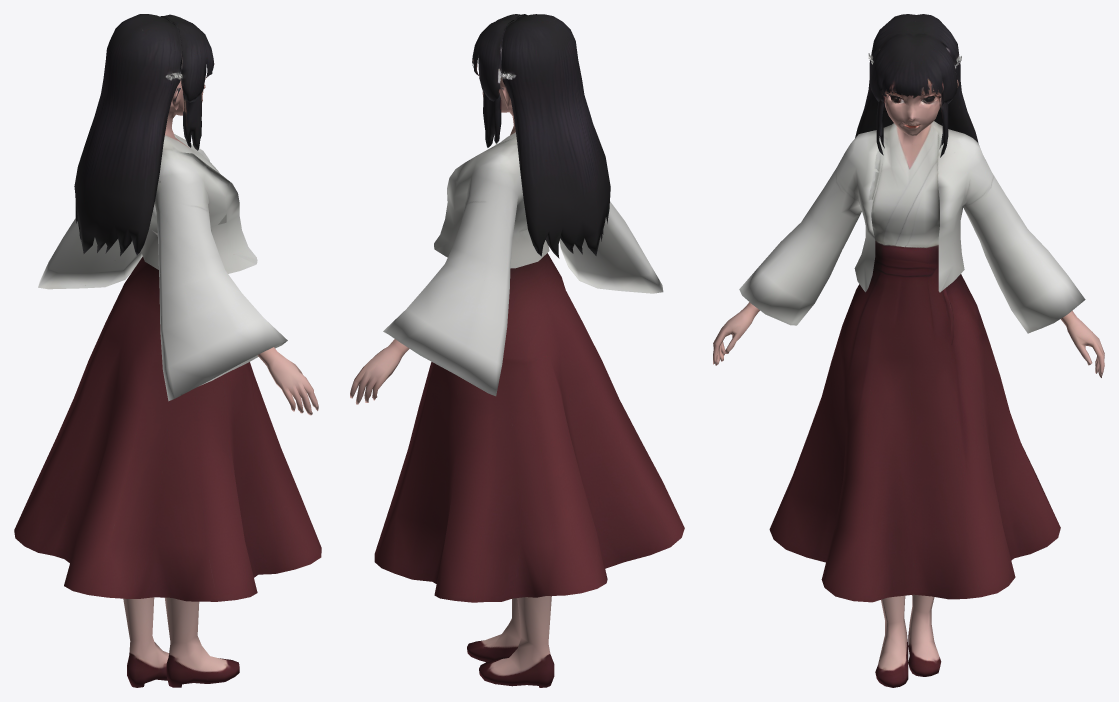
Rendered from nhan-vat-nu-1.glb.
3 renders of one model, left to right at view 1: azimuth 30°, elevation 25°; view 2: azimuth 150°, elevation 25°; view 3: azimuth 270°, elevation 25°, orthographic. The views are drawn at different scales.
Parts seen in each view (by area): view 1: tripo_node_bcec418d-592c-4064-b7b7-5a17ad99af47; view 2: tripo_node_bcec418d-592c-4064-b7b7-5a17ad99af47; view 3: tripo_node_bcec418d-592c-4064-b7b7-5a17ad99af47.
Boxes of the visible parts, <box> form: tripo_node_bcec418d-592c-4064-b7b7-5a17ad99af47: <box>14,14,321,687</box>; tripo_node_bcec418d-592c-4064-b7b7-5a17ad99af47: <box>350,14,684,687</box>; tripo_node_bcec418d-592c-4064-b7b7-5a17ad99af47: <box>713,14,1104,687</box>.
Size of the model in its own units: 0.3965 by 0.998 by 0.5566.
1 material, 1 textured.
